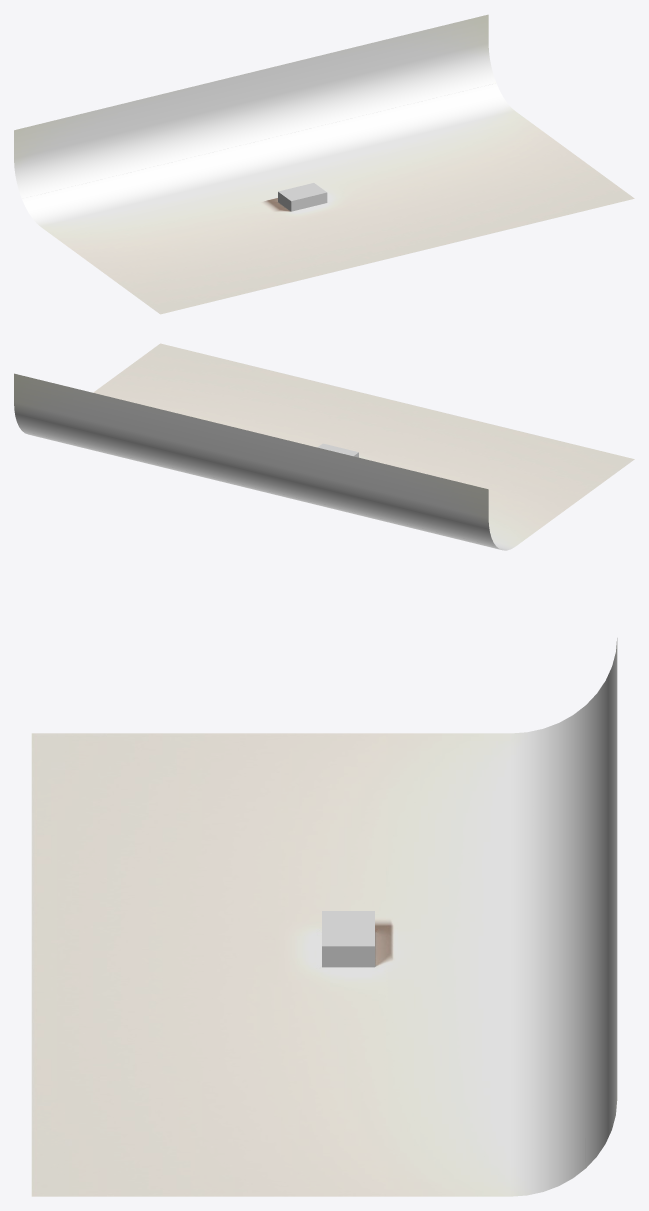
File: Entorno 5.glb
3 renders of one model, top to bottom at view 1: azimuth 30°, elevation 25°; view 2: azimuth 150°, elevation 25°; view 3: azimuth 270°, elevation 25°, orthographic. The views are drawn at different scales.
Parts seen in each view (by area): view 1: Plane, Caja Soporte; view 2: Plane; view 3: Plane, Caja Soporte.
Boxes of the visible parts, box(x1,y1,x2,y2) form: Plane: box(14, 14, 634, 314); Caja Soporte: box(278, 183, 327, 211); Plane: box(14, 343, 634, 550); Plane: box(31, 638, 617, 1196); Caja Soporte: box(322, 911, 374, 967).
Size of the model in its own units: 78.91 by 12.26 by 42.15.
2 materials, 1 textured.
